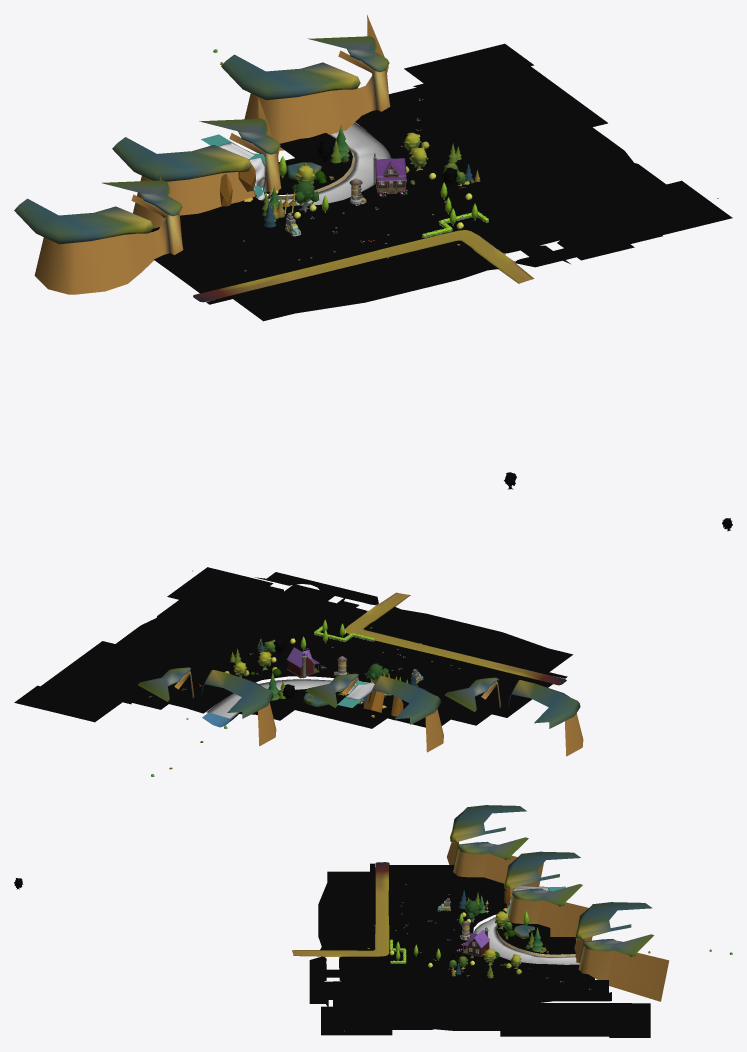
Rendered from ENV.glb.
3 renders of one model, top to bottom at view 1: azimuth 30°, elevation 25°; view 2: azimuth 150°, elevation 25°; view 3: azimuth 270°, elevation 25°, orthographic. The views are drawn at different scales.
Parts seen in each view (by area): view 1: Ground, Mountain_3366067835.001, Mountain_3366067835.003, Mountain_3366067835.002, Road_1, BeachLake_9777676730, B_Classic_Livinghouse_Lvl0; view 2: Ground, Mountain_3366067835.003, Mountain_3366067835.001, Mountain_3366067835.002, Road_1, BeachLake_9777676730, B_Classic_Livinghouse_Lvl0; view 3: Ground, Mountain_3366067835.003, Mountain_3366067835.002, Mountain_3366067835.001, Road_1, BeachLake_9777676730, B_Classic_Livinghouse_Lvl0.
Part boxes in pixels (x1,y1,x2,y2): Ground: (151, 43, 732, 321); Mountain_3366067835.001: (14, 176, 183, 294); Mountain_3366067835.003: (221, 15, 390, 150); Mountain_3366067835.002: (112, 98, 281, 228); Road_1: (193, 230, 534, 302); BeachLake_9777676730: (268, 122, 391, 205); B_Classic_Livinghouse_Lvl0: (373, 153, 406, 193); Ground: (14, 567, 573, 728); Mountain_3366067835.003: (138, 667, 276, 746); Mountain_3366067835.001: (444, 677, 583, 756); Mountain_3366067835.002: (305, 673, 443, 752); Road_1: (345, 592, 566, 685); BeachLake_9777676730: (206, 679, 363, 719); B_Classic_Livinghouse_Lvl0: (286, 647, 319, 678); Ground: (309, 863, 650, 1037); Mountain_3366067835.003: (572, 902, 669, 1001); Mountain_3366067835.002: (504, 851, 592, 941); Mountain_3366067835.001: (447, 805, 543, 886); Road_1: (292, 862, 389, 957); BeachLake_9777676730: (474, 917, 579, 964); B_Classic_Livinghouse_Lvl0: (462, 927, 489, 956).
Bounding box in the file's own units: 202 × 20.57 × 306.
